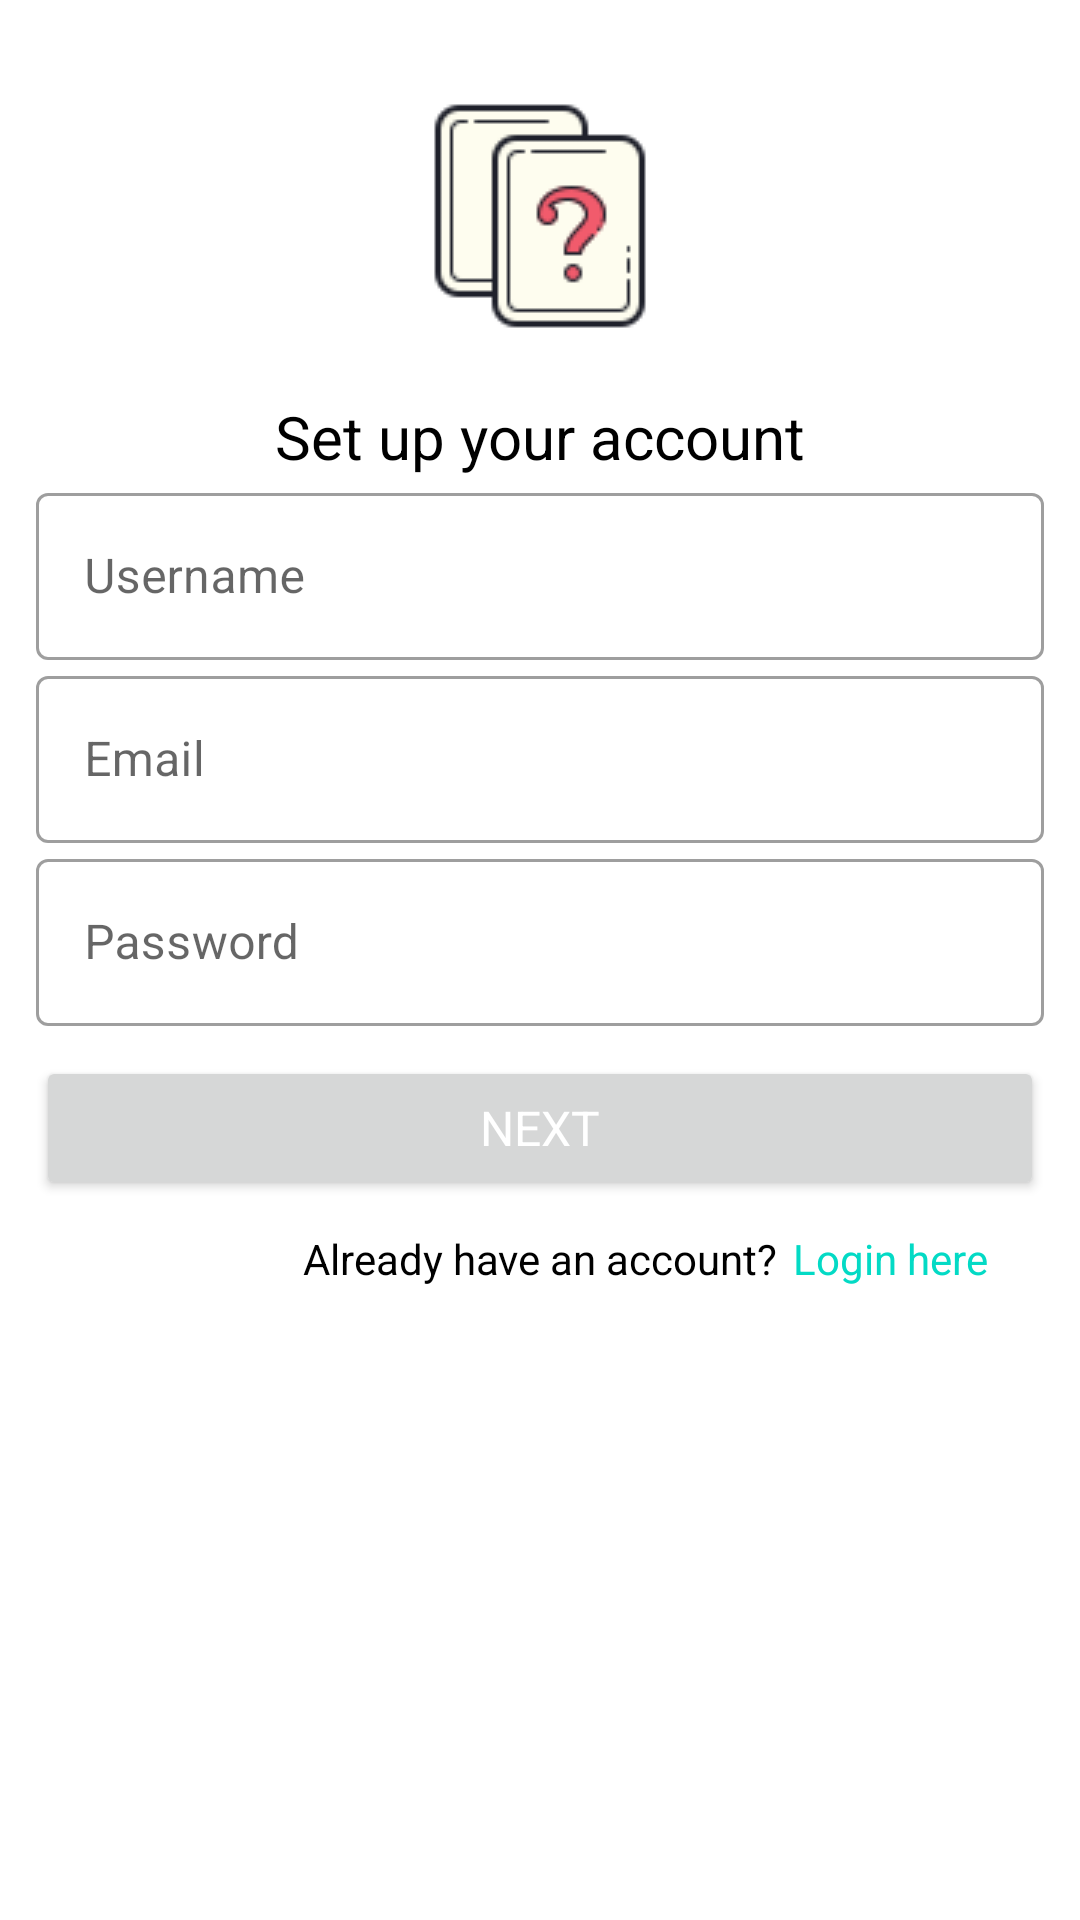

Point at icon controls on the screen. Image size 1080x1920, points as [x,y].
icon of app: [540,216]
